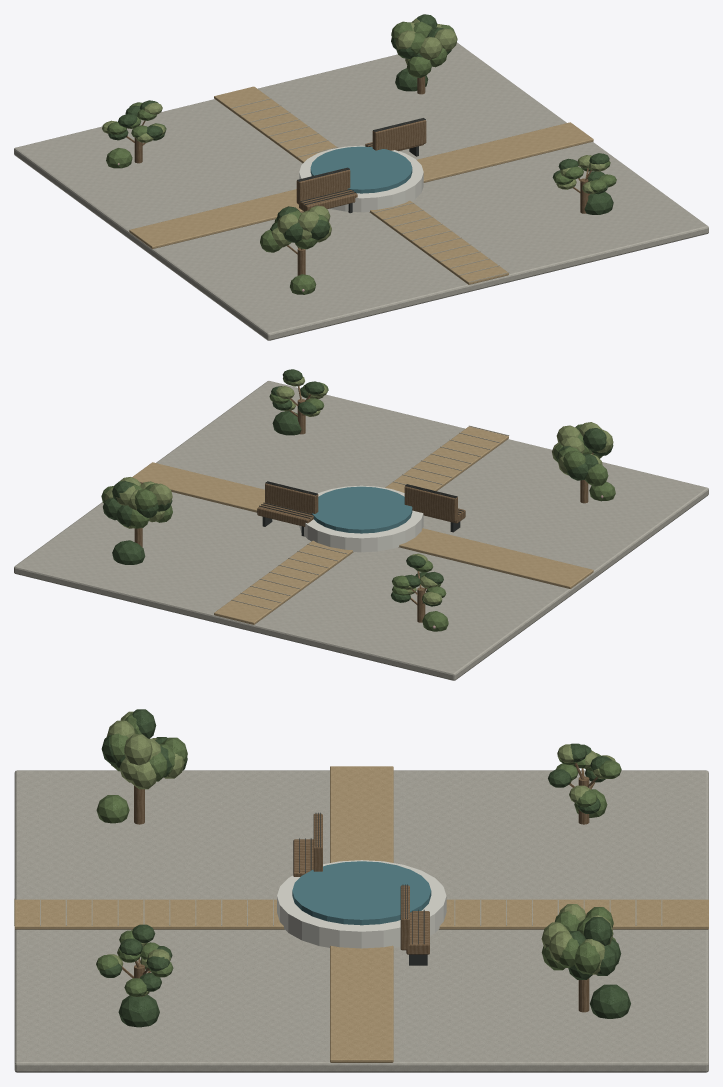
The model's file is PARK_3x3_003.glb.
3 renders of one model, top to bottom at view 1: azimuth 30°, elevation 25°; view 2: azimuth 150°, elevation 25°; view 3: azimuth 270°, elevation 25°, orthographic. The views are drawn at different scales.
Parts seen in each view (by area): view 1: PARK_3x3_003_Visual; view 2: PARK_3x3_003_Visual; view 3: PARK_3x3_003_Visual.
Boxes of the visible parts, bbox=[...] form: PARK_3x3_003_Visual: bbox=[14, 14, 708, 340]; PARK_3x3_003_Visual: bbox=[14, 369, 708, 680]; PARK_3x3_003_Visual: bbox=[14, 709, 708, 1072].
Size of what is drawn, in the model's own units: 5.9 by 1.08 by 5.9.
11 materials, 8 textured.
